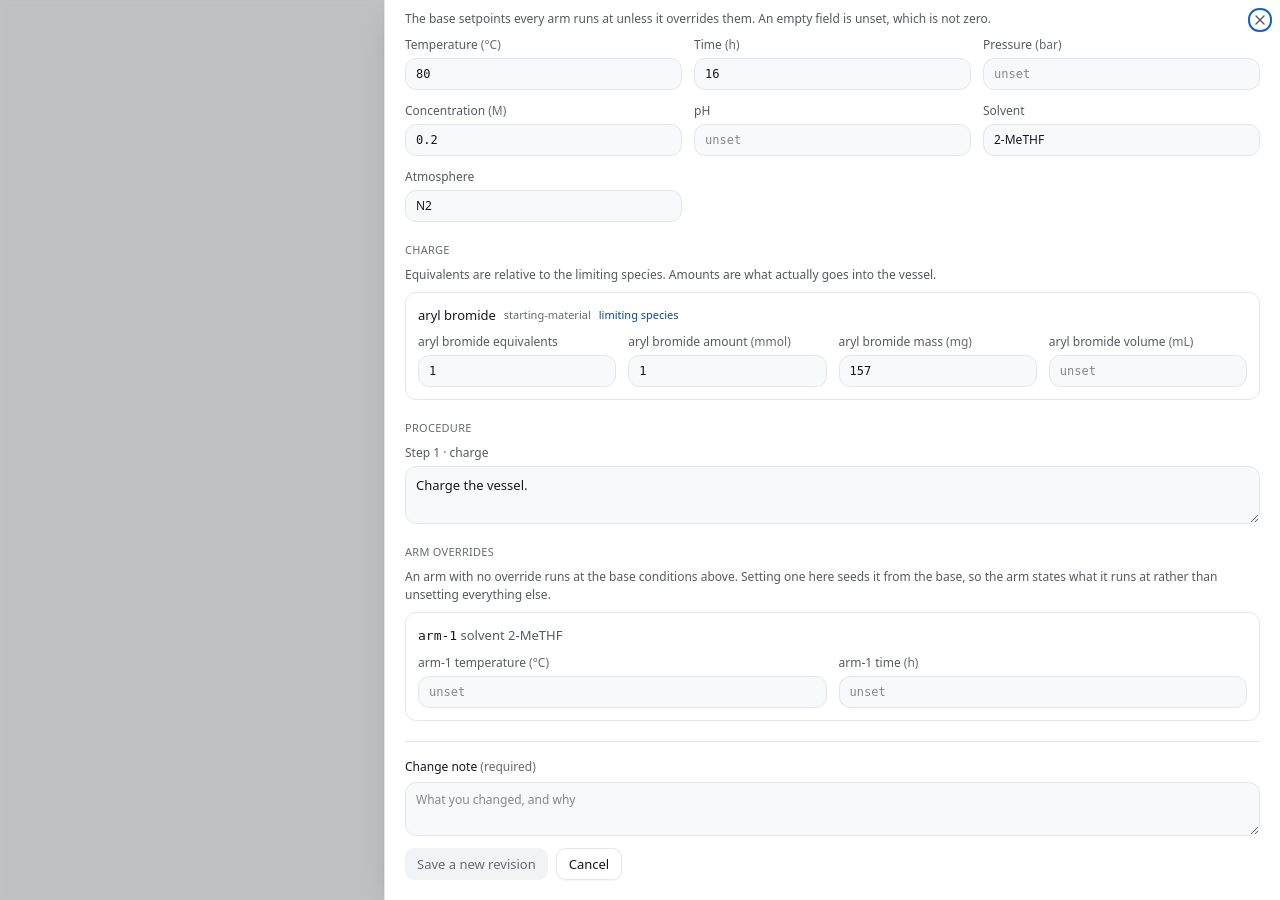
Test case: ProtocolEditor › will not save without a change note
(page scrolled)
Expected: the button "Save a new revision" is disabled, [405,848,548,880]
Type "why" into the text box labelled "Change note (required)" at [832, 809], box [405,782,1260,836]
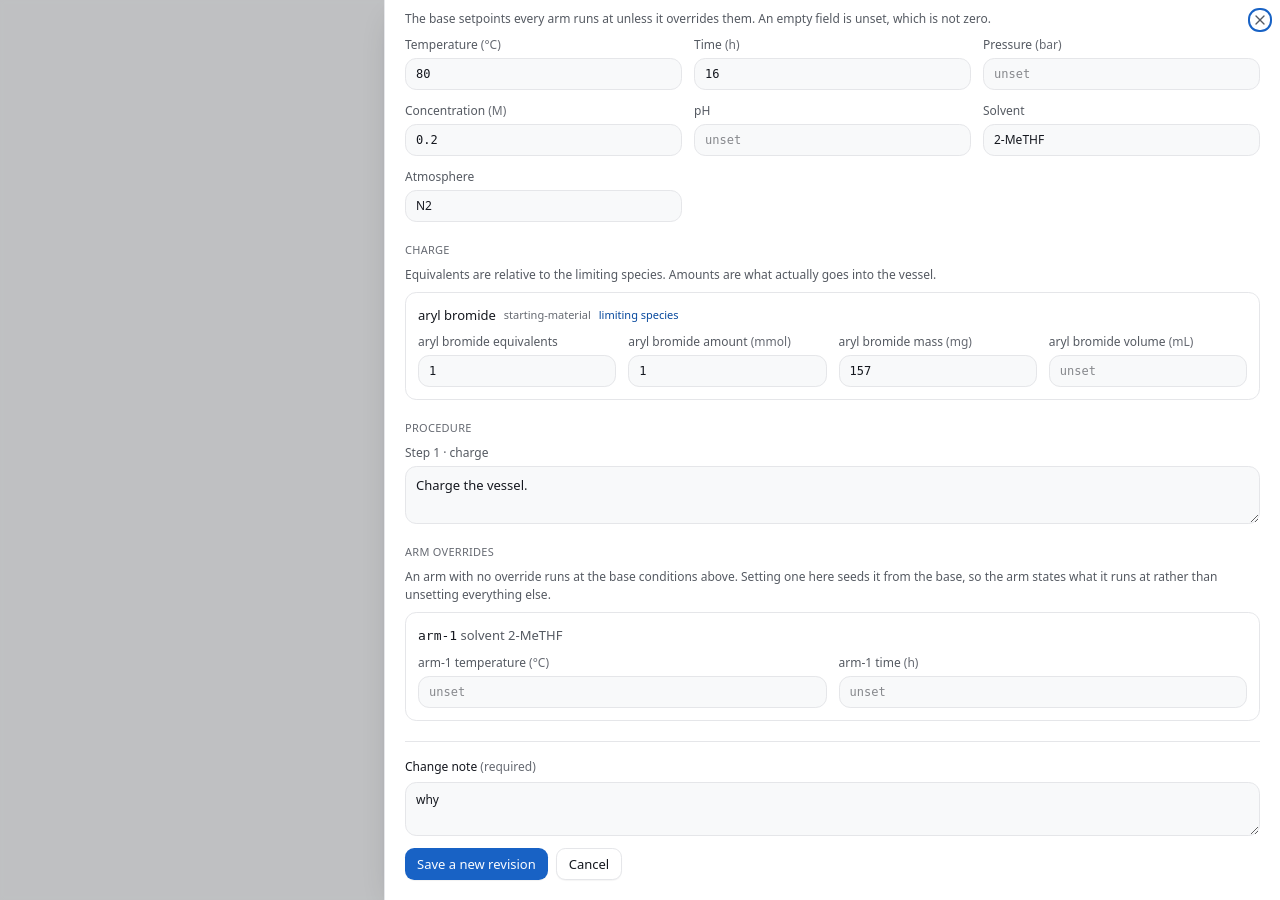
Expected: the button "Save a new revision" is enabled, [405,848,548,880]
